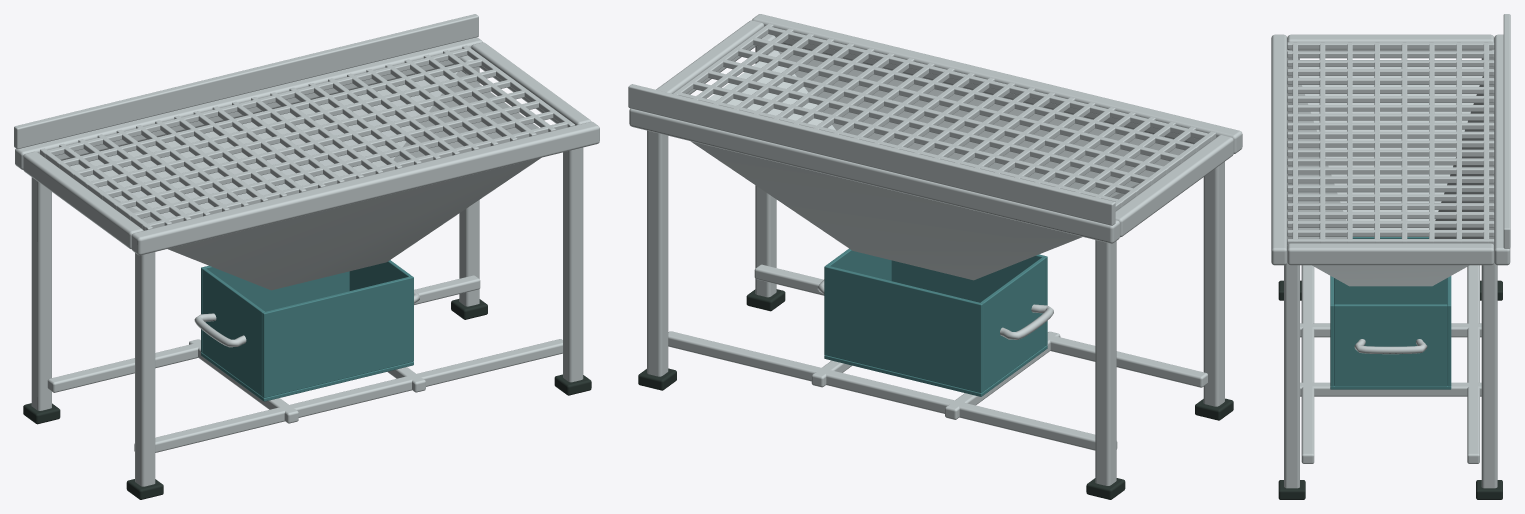
The model's file is mushroom-farm-and-grow-rooms-sorting-table-28b4d68f__30844.glb.
3 renders of one model, left to right at view 1: azimuth 30°, elevation 25°; view 2: azimuth 150°, elevation 25°; view 3: azimuth 270°, elevation 25°, orthographic. The views are drawn at different scales.
Parts seen in each view (by area): view 1: sorting-table; view 2: sorting-table; view 3: sorting-table.
Part boxes in pixels (x1,y1,x2,y2): sorting-table: (14, 14, 599, 499); sorting-table: (628, 14, 1242, 499); sorting-table: (1271, 14, 1510, 499).
Size of the model in its own units: 1.6 by 0.9499 by 0.751.
